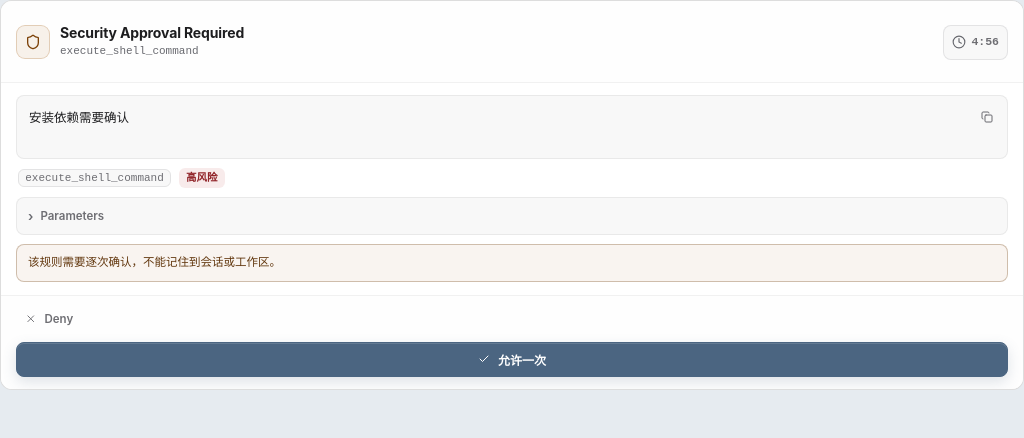
Test: ApprovalCard › does not claim a decision was unapplied when the response is unknown
Click the button "允许一次": (512, 359) 16,342 -> 1008,377
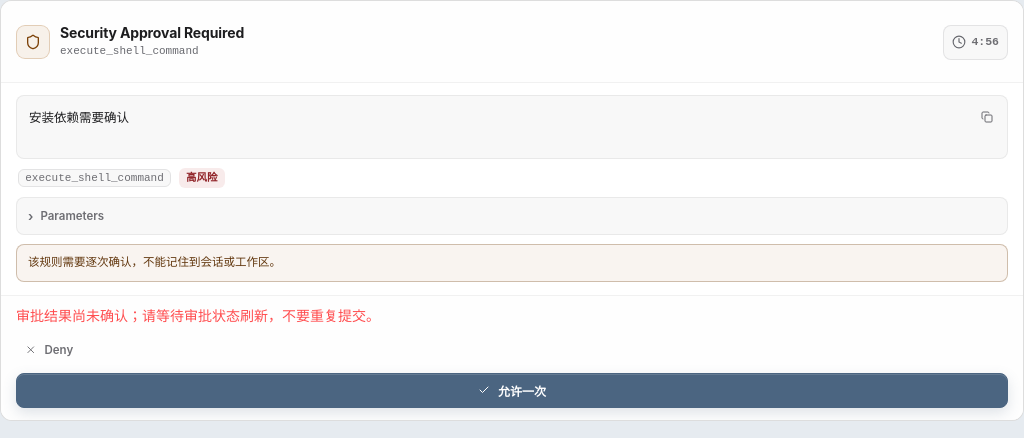
Result: the text "审批结果尚未确认；请等待审批状态刷新，不要重复提交。" is shown at 16,307 -> 380,324
